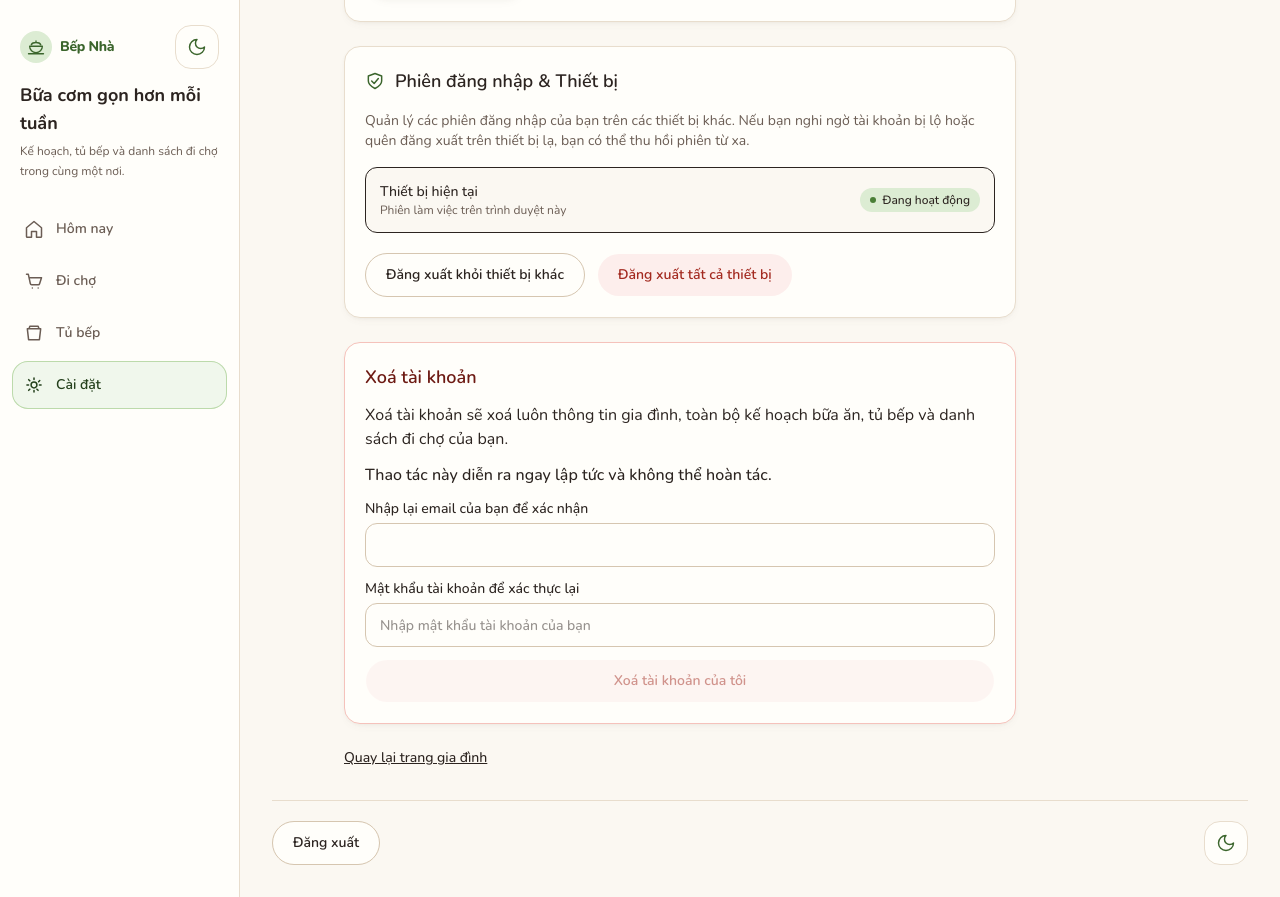
it: account deletion › explains the UNAUTHORIZED outcome and stays on the page
The image size is (1280, 897).
(page scrolled)
Type "chu-nha@example.com" into the field labelled "Nhập lại email của bạn để xác nhận" at (680, 545), box [365, 523, 995, 567]
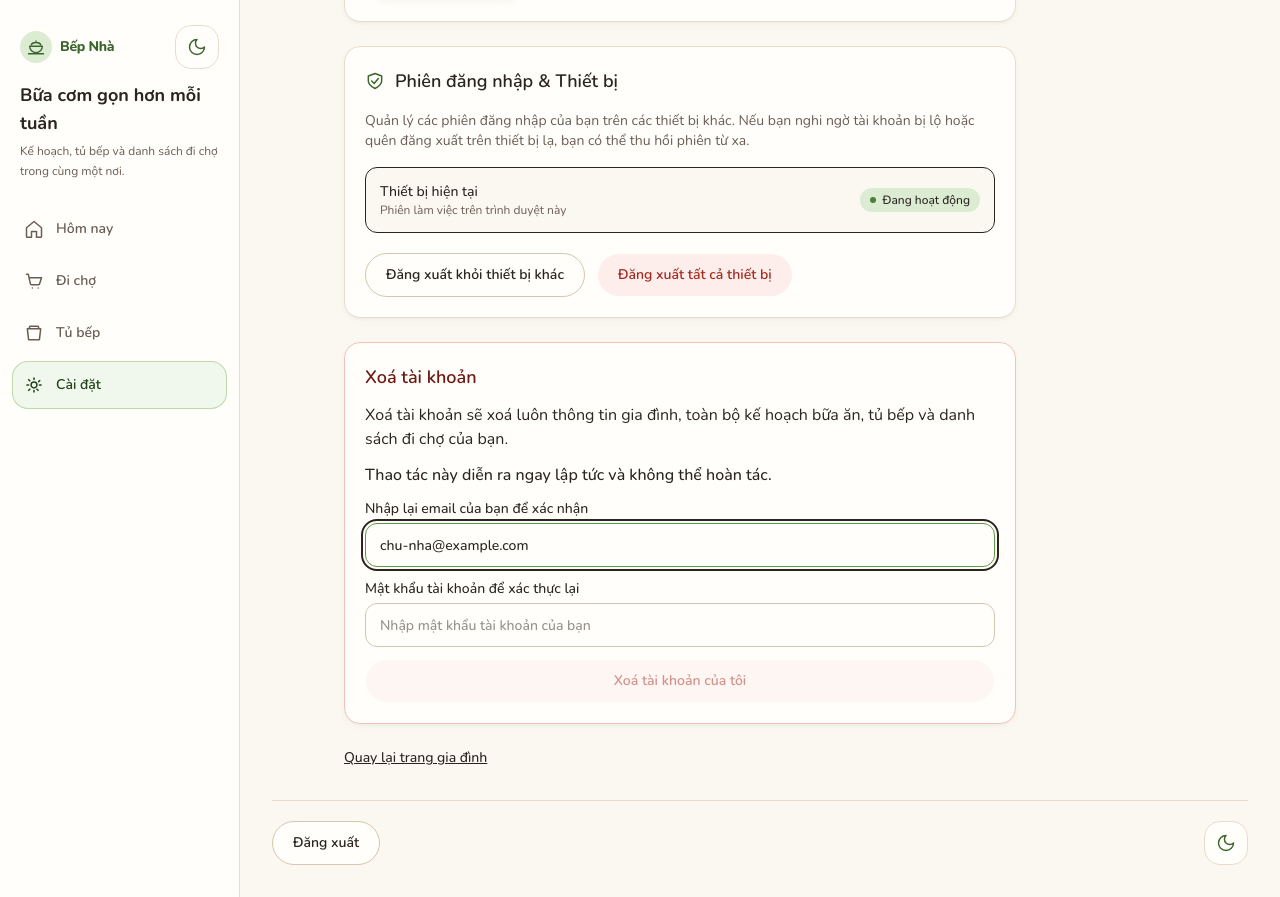
Type "my-password" into the password field labelled "Mật khẩu tài khoản để xác thực lại" at (680, 625), box [365, 603, 995, 647]
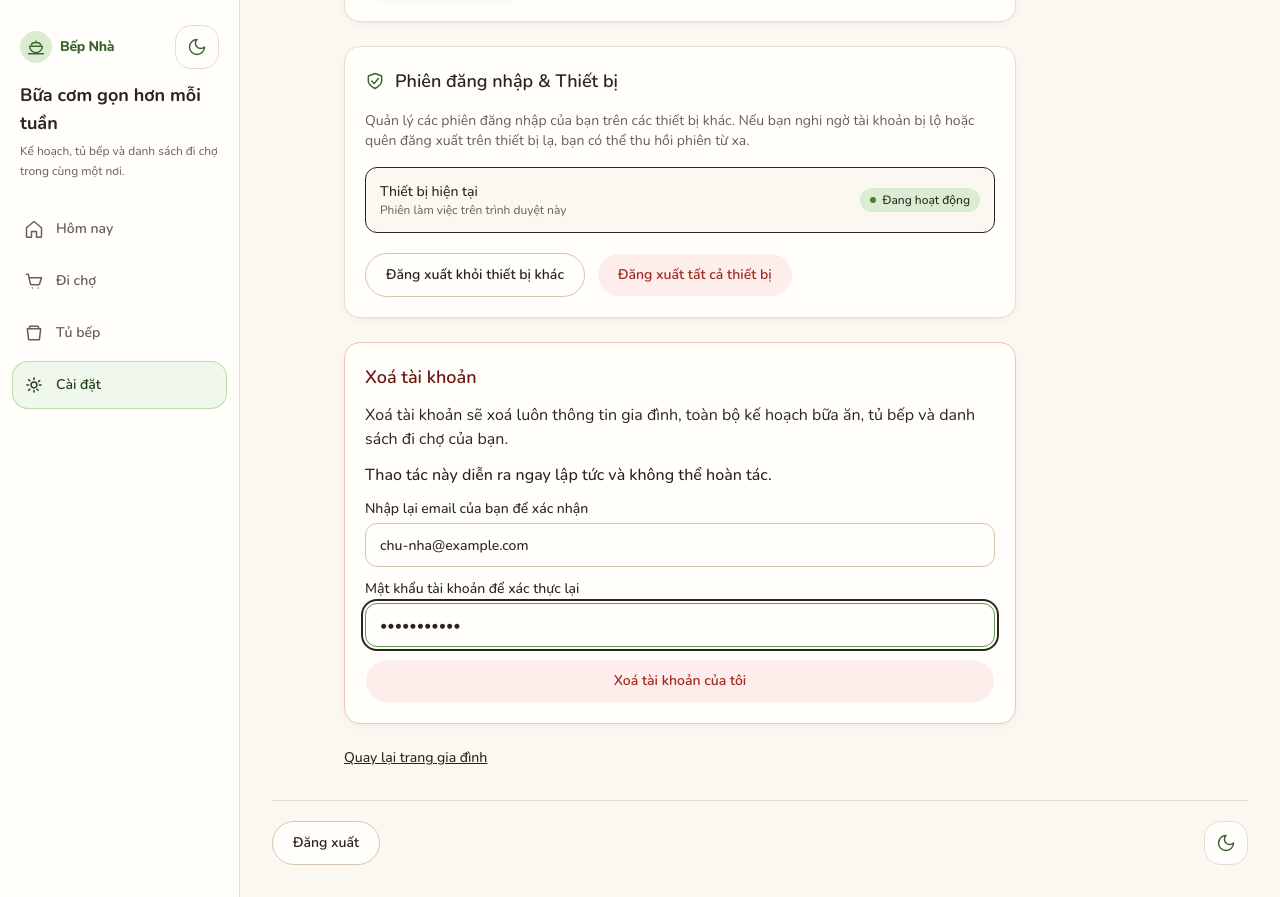
Click the button "Xoá tài khoản của tôi" at (680, 681), box [365, 659, 995, 703]
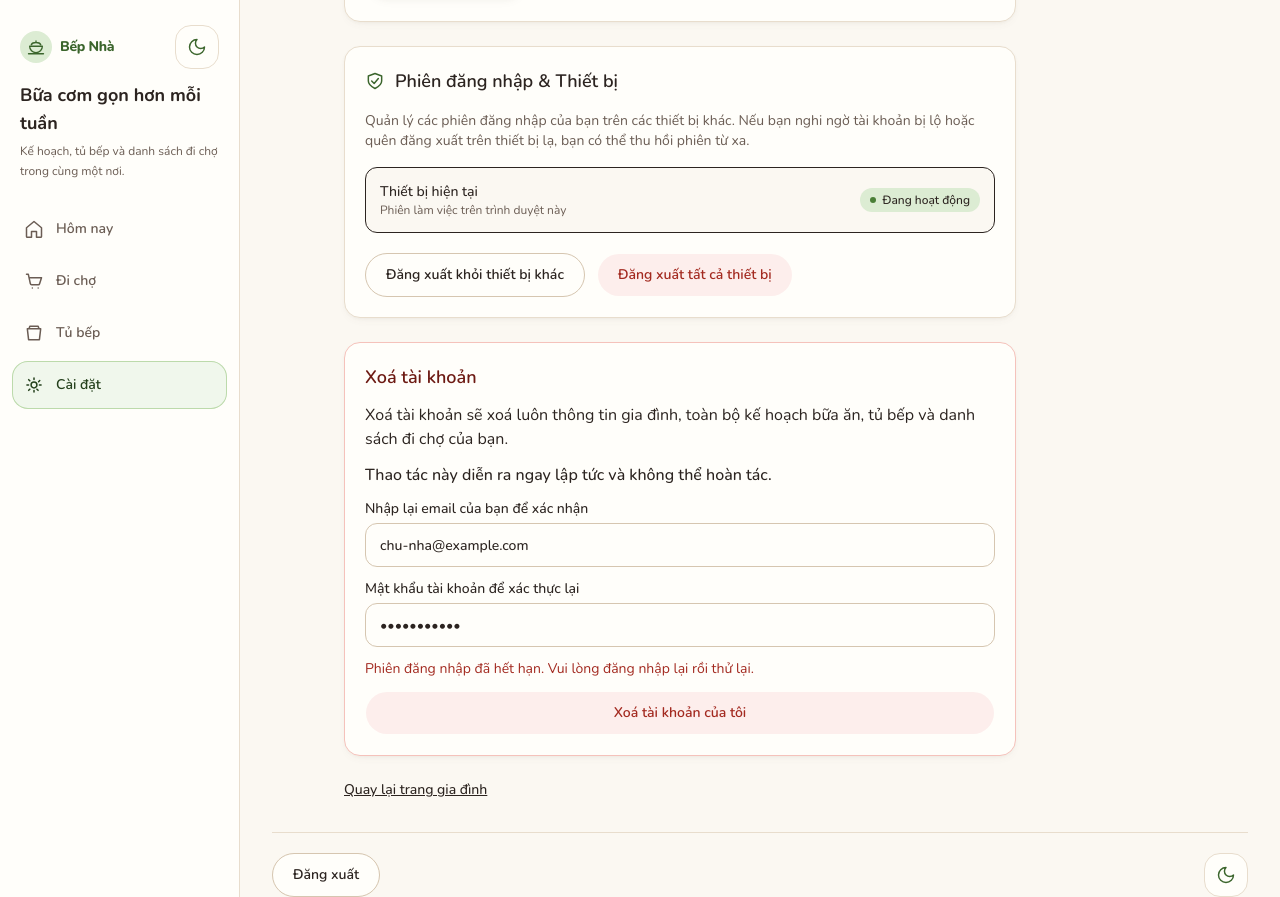
Expected: the button "Xoá tài khoản của tôi" is enabled, [365, 691, 995, 735]
Expected: the message shows "đăng nhập lại", [365, 659, 754, 678]
